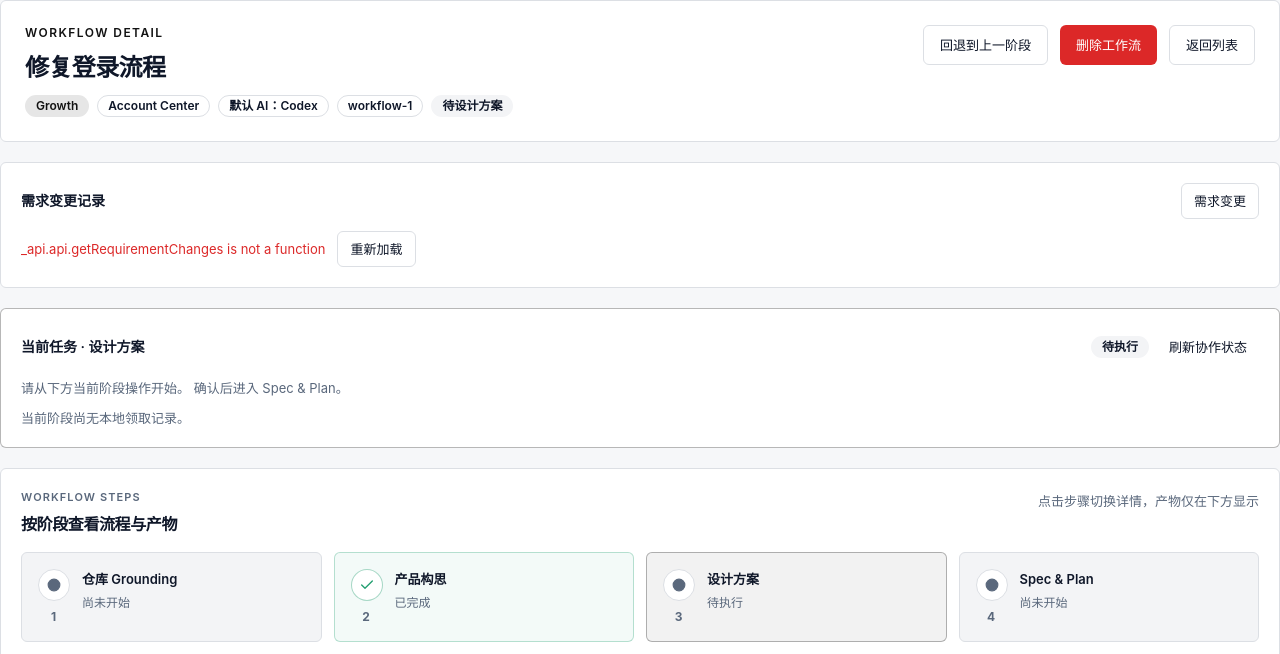
Test case: WorkflowRunDetailPage › shows restart brainstorm on the brainstorm stage when workflow is in design
Click the button "2 产品构思 已完成" at (484,596), box [334,552,634,642]
(page scrolled)
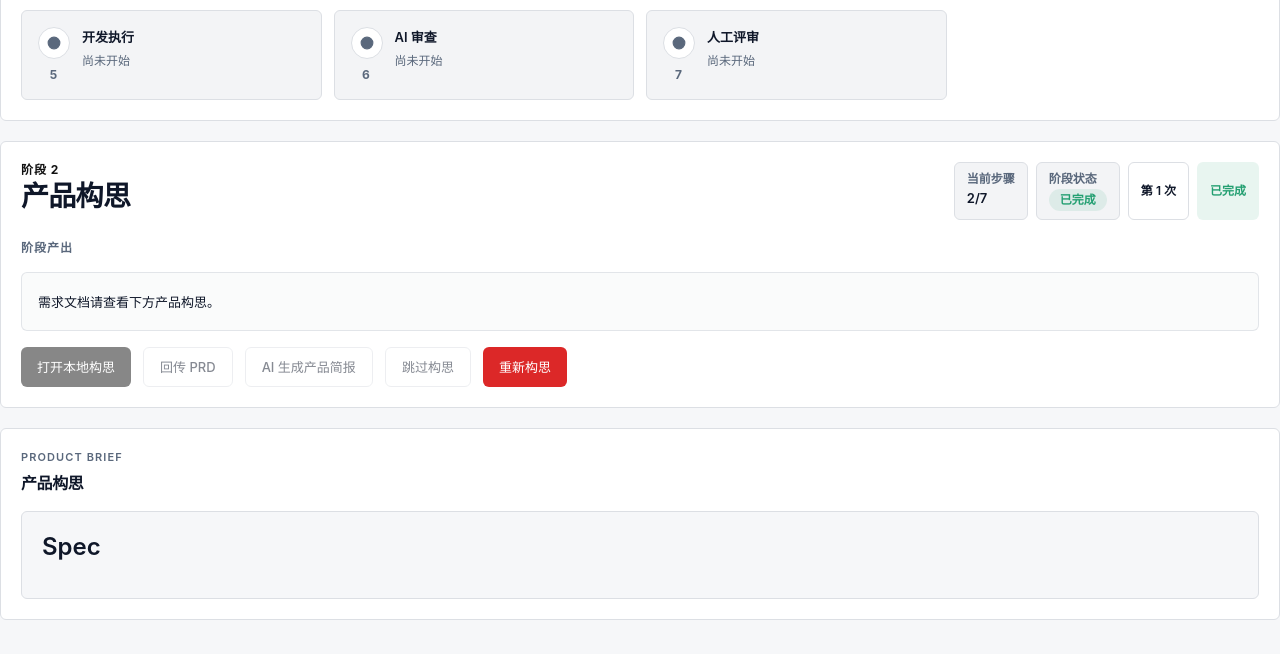
Now the button "重新构思" is enabled, box [483,346,567,386]
